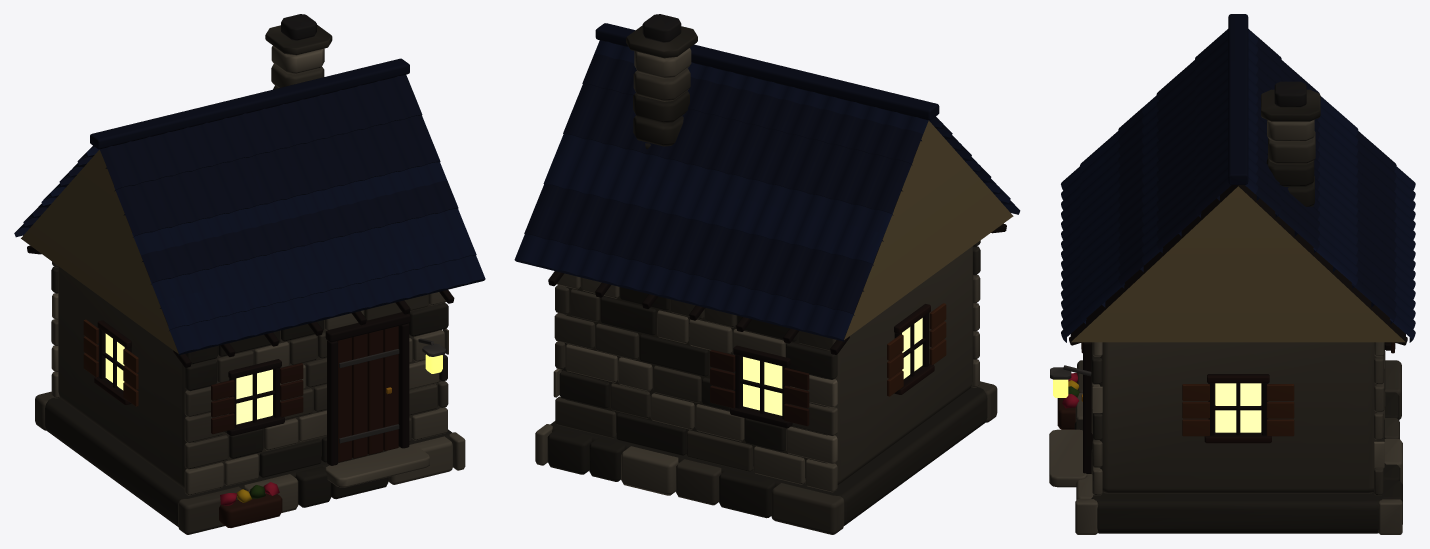
Rendered from Casa2B.fbx.
3 views of the same model, side by side, from view 1: azimuth 30°, elevation 25°; view 2: azimuth 150°, elevation 25°; view 3: azimuth 270°, elevation 25° (orthographic). The views are drawn at different scales.
Parts seen in each view (by area): view 1: Casa2B; view 2: Casa2B; view 3: Casa2B.
Part boxes in pixels (x1,y1,x2,y2): Casa2B: [14, 14, 485, 534]; Casa2B: [514, 14, 1020, 534]; Casa2B: [1049, 14, 1415, 534].
Bounding box in the file's own units: 4.99 × 5.97 × 4.79.
